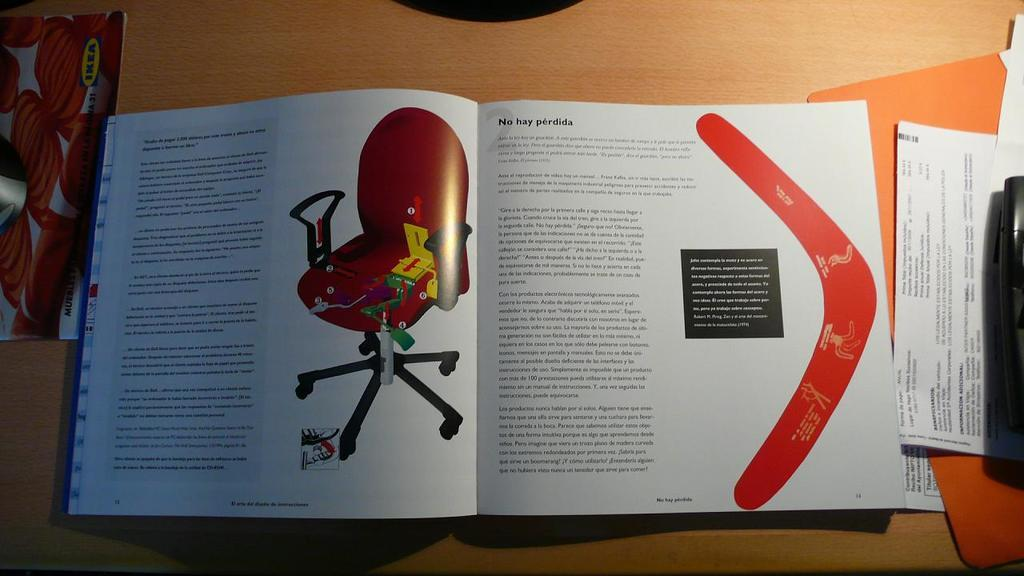Chair: (288, 105, 472, 461)
